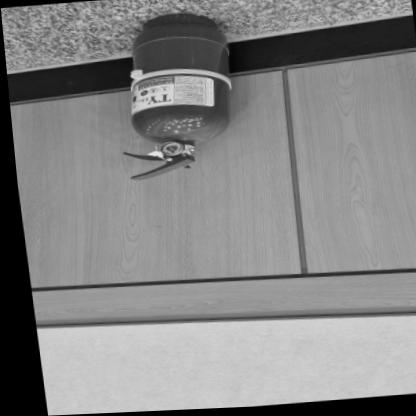FE: (104, 9, 239, 181)
